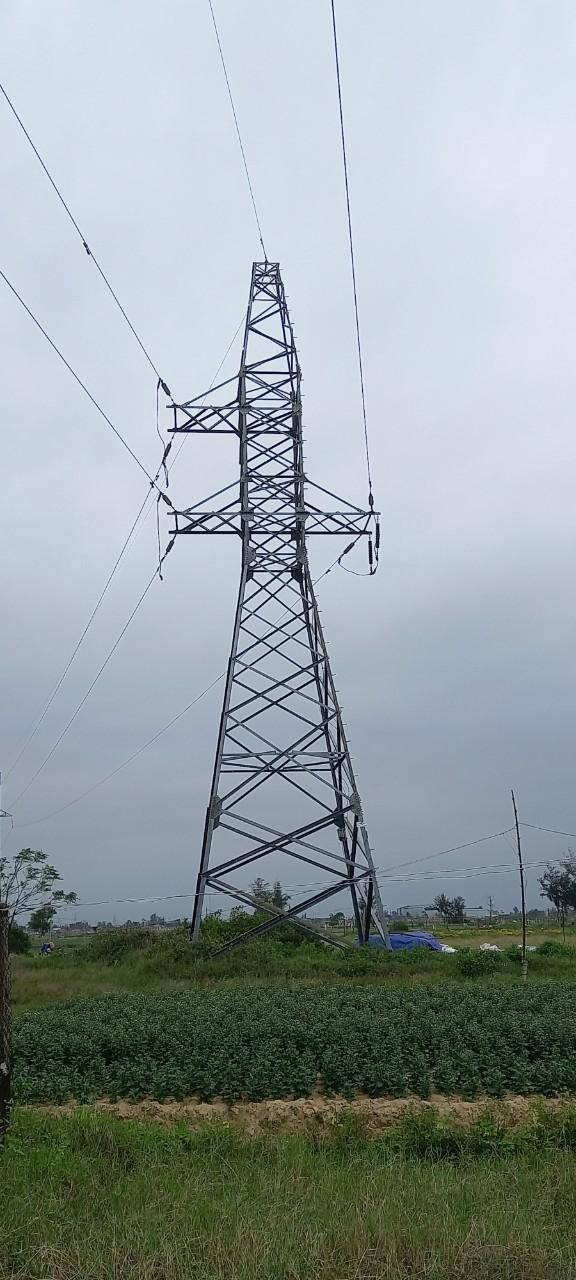power_tower: (192, 234, 380, 960)
